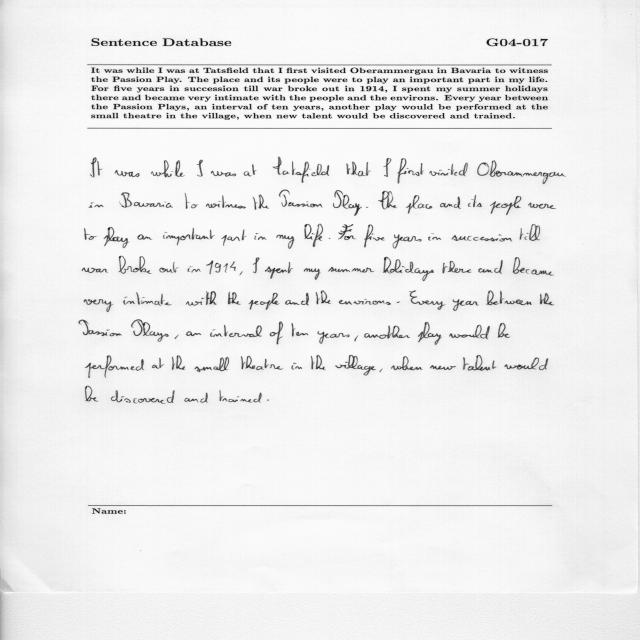word: (477, 160, 566, 184), (273, 157, 330, 183), (85, 355, 145, 378), (383, 257, 434, 281), (111, 390, 175, 404), (163, 228, 215, 245), (335, 355, 376, 376), (120, 192, 173, 208), (131, 320, 169, 342), (512, 257, 554, 276), (333, 190, 362, 216), (279, 190, 323, 207), (79, 320, 122, 336), (123, 292, 172, 306), (410, 291, 446, 310), (398, 158, 424, 184), (486, 291, 532, 305), (210, 325, 262, 337), (118, 256, 152, 274), (364, 326, 410, 339), (490, 196, 521, 215), (241, 356, 283, 370), (151, 160, 185, 177), (449, 325, 490, 339), (505, 358, 549, 371), (219, 390, 262, 403), (418, 322, 442, 345), (104, 227, 130, 248), (463, 355, 496, 371), (249, 293, 280, 310), (194, 357, 229, 372), (206, 196, 246, 209), (406, 195, 433, 214), (429, 163, 468, 176), (364, 225, 385, 248), (265, 262, 293, 279), (186, 291, 217, 306), (391, 356, 423, 370), (304, 224, 323, 247), (393, 234, 422, 249), (222, 229, 247, 246), (452, 235, 512, 242), (206, 260, 236, 274), (318, 331, 350, 344), (84, 299, 114, 312), (443, 261, 472, 274), (346, 162, 371, 177), (378, 191, 397, 209), (520, 224, 540, 241), (478, 260, 503, 273), (269, 322, 283, 345), (339, 299, 391, 305), (453, 299, 479, 311), (338, 224, 356, 240), (285, 293, 309, 305), (440, 196, 461, 209), (276, 235, 295, 249), (253, 194, 269, 210), (91, 158, 103, 178), (184, 393, 208, 403), (292, 323, 309, 337), (328, 267, 374, 272), (311, 355, 326, 370), (185, 193, 199, 209), (159, 262, 179, 273), (86, 386, 99, 402), (304, 268, 321, 280), (316, 291, 331, 304), (498, 323, 511, 338), (172, 355, 185, 370), (115, 170, 140, 177), (228, 292, 241, 305), (468, 195, 482, 207), (528, 203, 556, 209), (540, 293, 554, 305), (244, 164, 257, 176), (84, 228, 97, 240), (384, 158, 392, 177), (211, 171, 236, 177), (152, 358, 164, 369), (82, 268, 108, 273), (430, 365, 456, 370), (197, 160, 203, 177), (253, 258, 259, 274), (254, 233, 267, 240), (429, 234, 442, 241), (89, 202, 104, 208), (188, 267, 201, 273), (292, 363, 303, 370), (138, 235, 153, 240), (187, 331, 202, 336), (355, 336, 358, 342), (239, 271, 243, 275), (175, 335, 179, 339), (379, 369, 383, 373), (397, 301, 400, 303), (267, 399, 269, 401), (366, 207, 368, 208), (329, 238, 330, 239)
